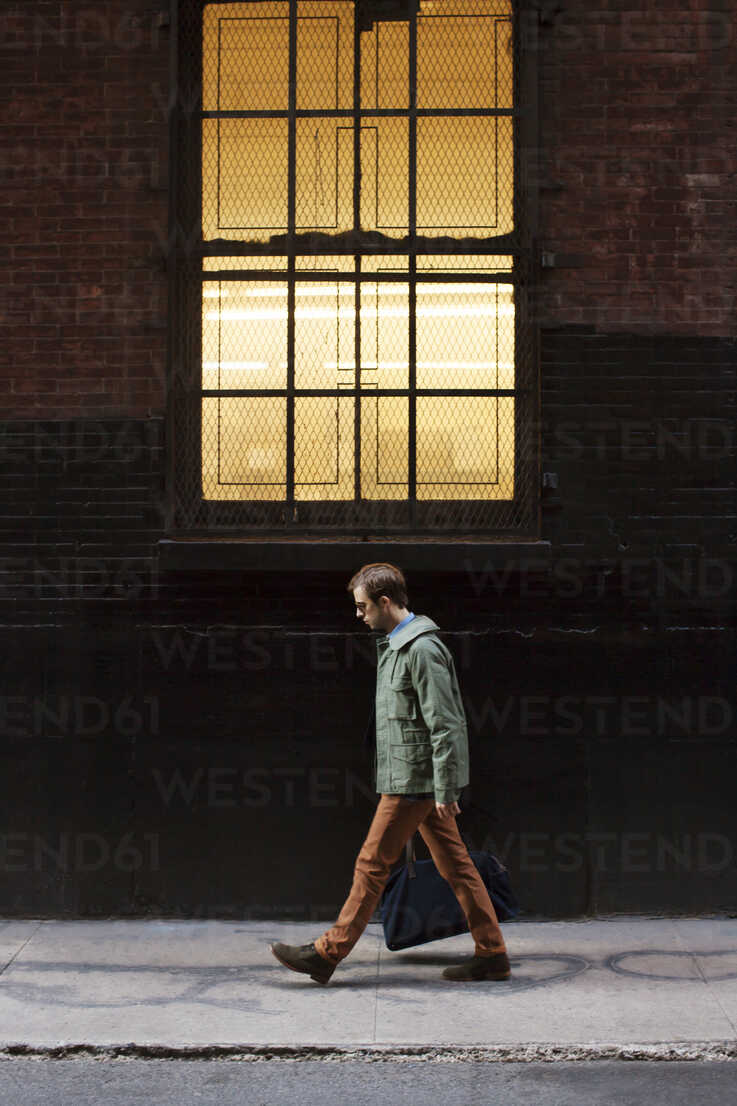person: (260, 551, 508, 991)
